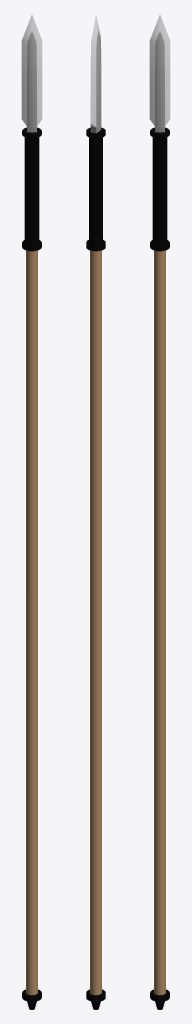
Rendered from SM_Yari.fbx.
3 views of the same model, side by side, from view 1: azimuth 90°, elevation 25°; view 2: azimuth 150°, elevation 25°; view 3: azimuth 270°, elevation 25° (orthographic).
Parts seen in each view (by area): view 1: obj7; view 2: obj7; view 3: obj7.
Part boxes in pixels (x1=…): obj7: x1=21, y1=14, x2=42, y2=1009; obj7: x1=86, y1=15, x2=105, y2=1009; obj7: x1=149, y1=14, x2=170, y2=1009.
Bounding box in the file's own units: 5.22 × 290 × 5.49.
